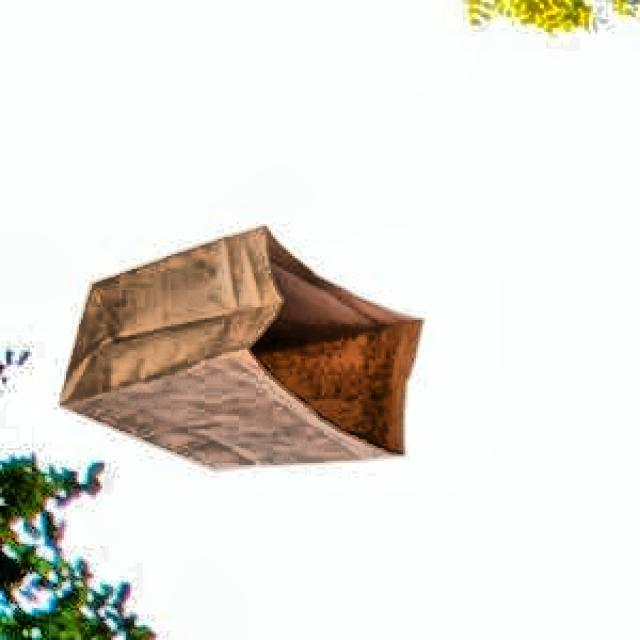Paper-bag: (53, 212, 437, 503)
